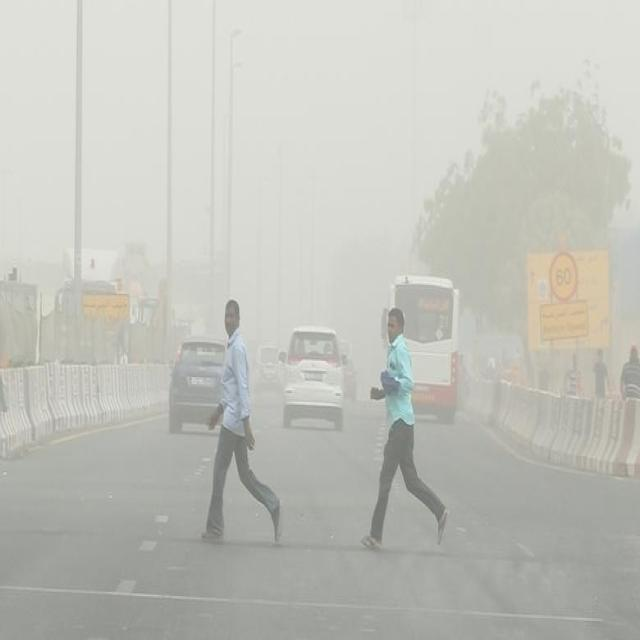Bus: (391, 272, 461, 418)
Car: (279, 329, 347, 425), (167, 340, 227, 430)
